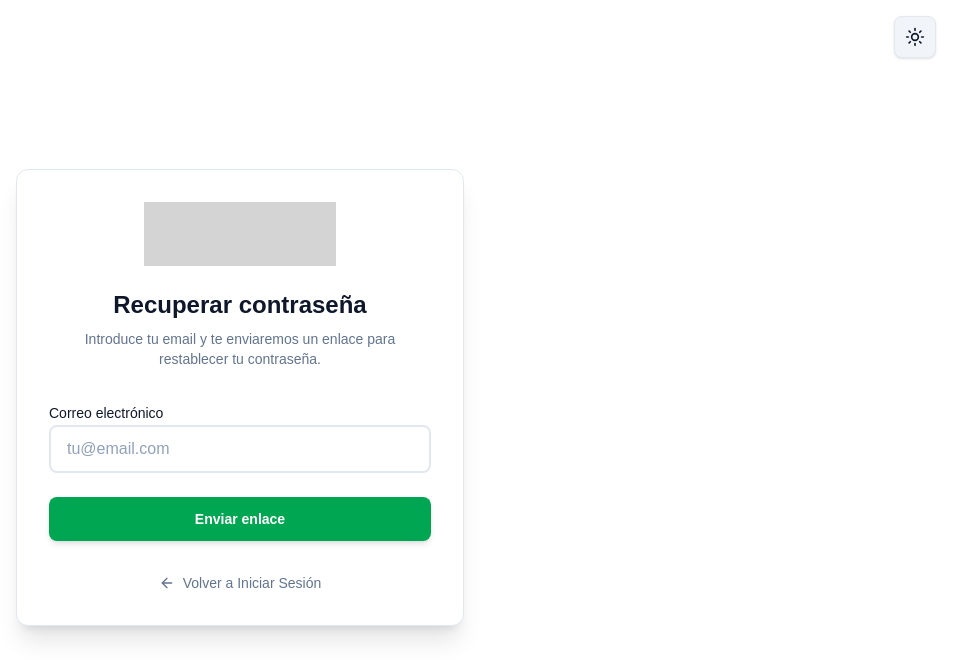
Test: ForgotPasswordPage › muestra la pantalla de confirmación después de enviar
Type "test@example.com" into the field labelled "Correo electrónico" at point(240, 448), box top-left (49, 424), bottom-right (431, 472)
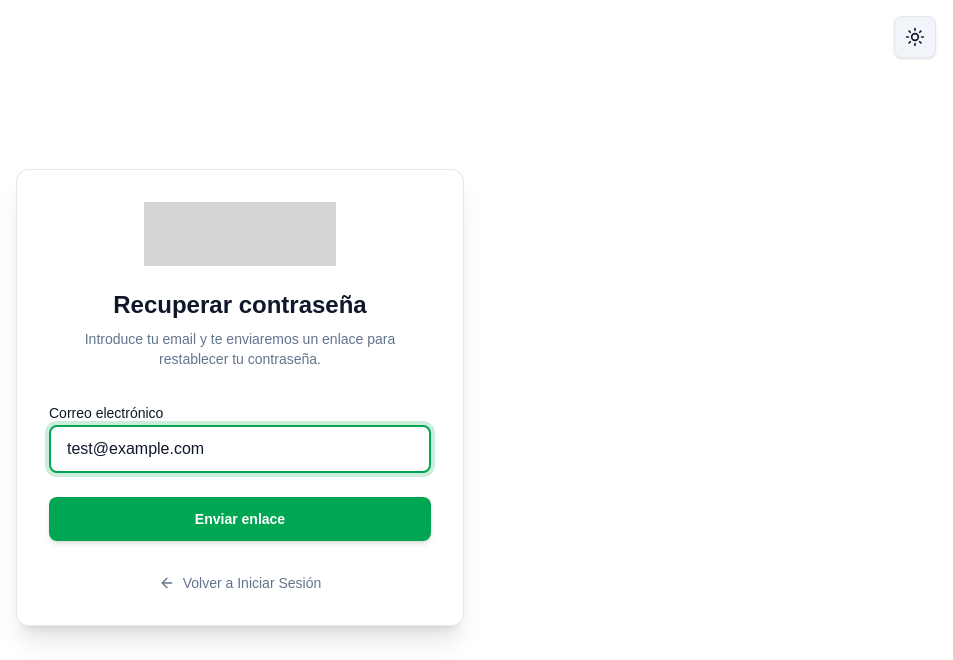
Click the button "Enviar enlace" at point(240, 518), box top-left (49, 496), bottom-right (431, 540)
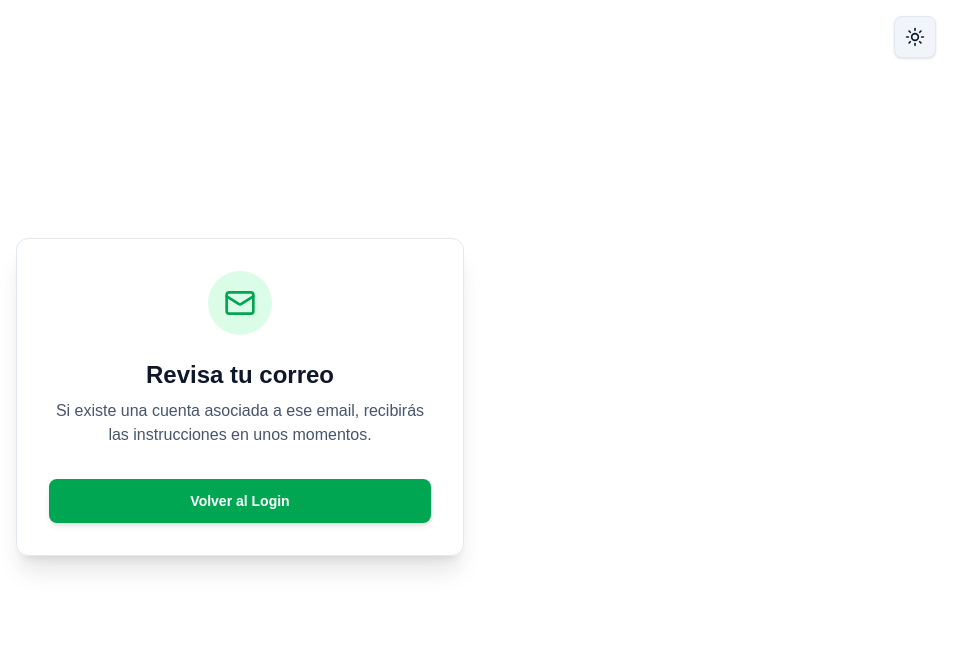
Expected: the heading "Revisa tu correo" is shown, top-left (146, 361), bottom-right (334, 388)
Expected: the text "Si existe una cuenta asociada a ese email" is shown, top-left (56, 402), bottom-right (424, 443)
Expected: the link "Volver al Login" is shown, top-left (49, 479), bottom-right (431, 523)
